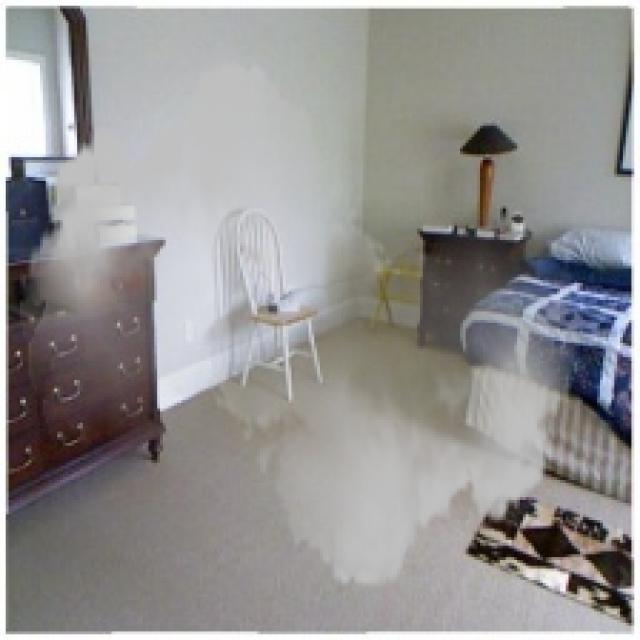Smoke: (20, 43, 580, 606)
